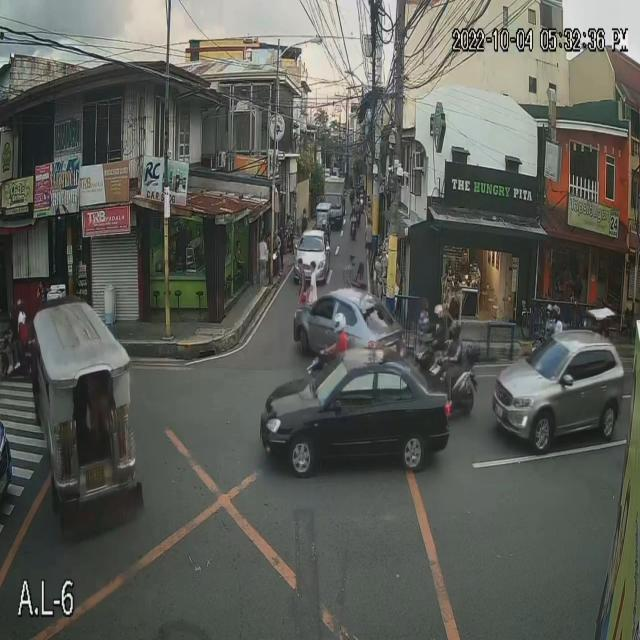Full-Faced: (446, 316, 464, 344), (330, 312, 346, 333), (548, 302, 562, 320), (544, 302, 553, 320)
Half-Faced: (432, 302, 448, 325)
